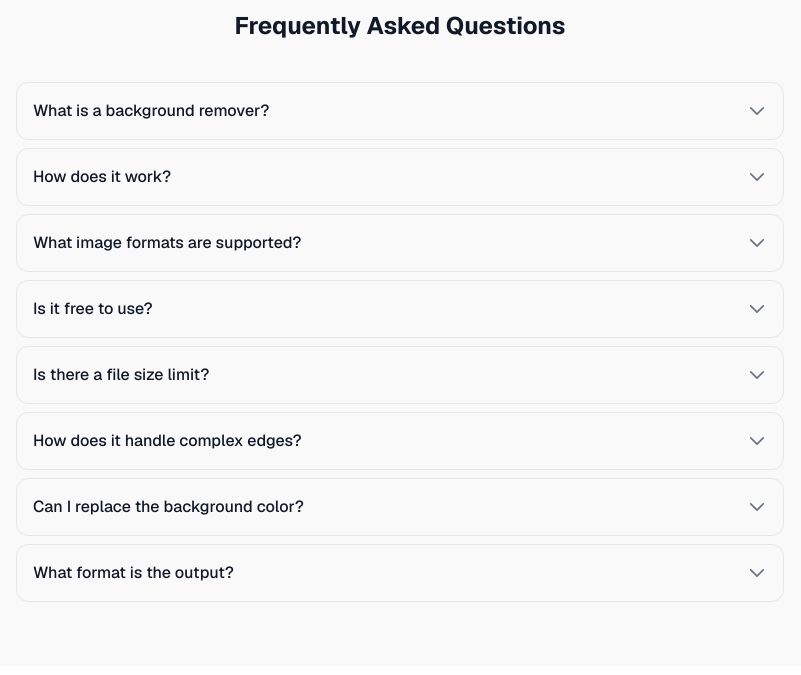
Test case: BackgroundRemoverFAQ › expands answer on click
Click the button "What is a background remover?" at (151, 110), box x1=17 y1=83 x2=783 y2=139
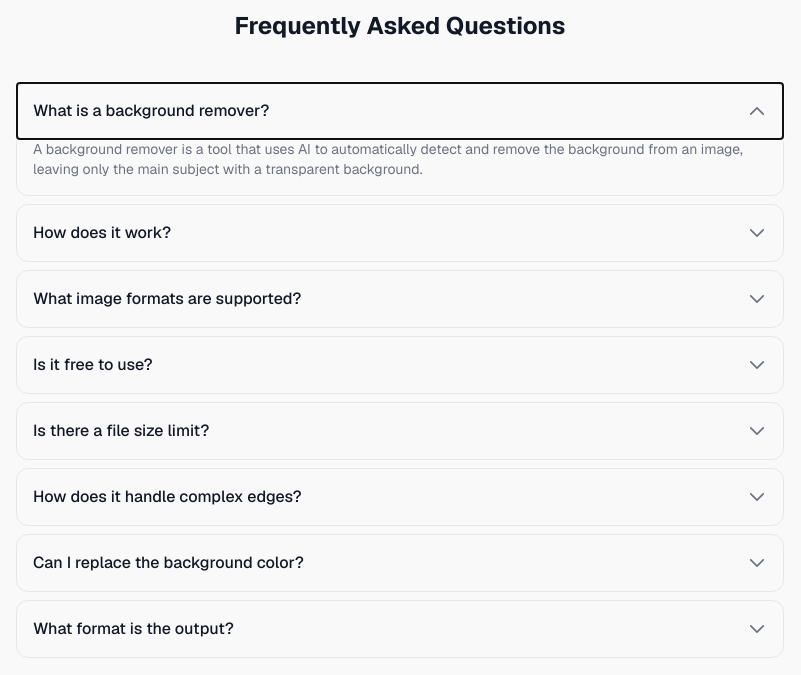
Check: the text "uses AI to automatically detect" is shown, box x1=33 y1=140 x2=743 y2=178
